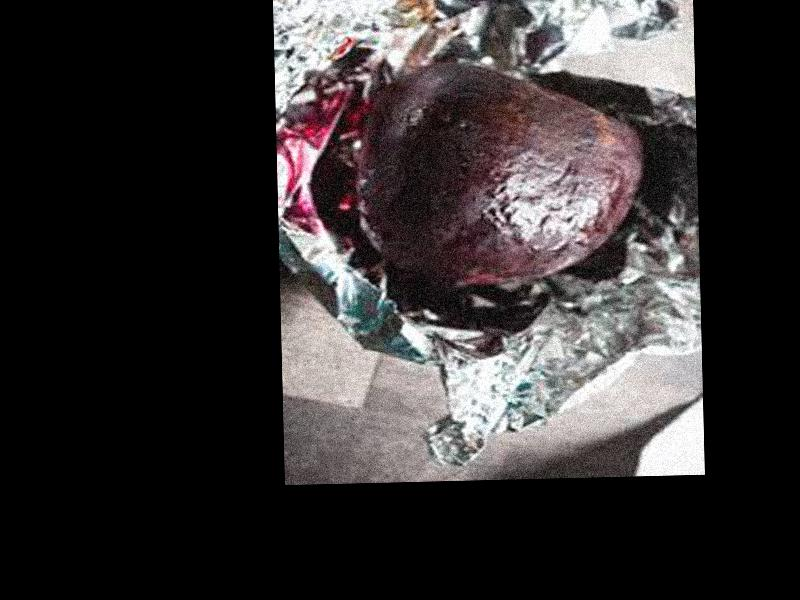Beet: (365, 57, 647, 292)
